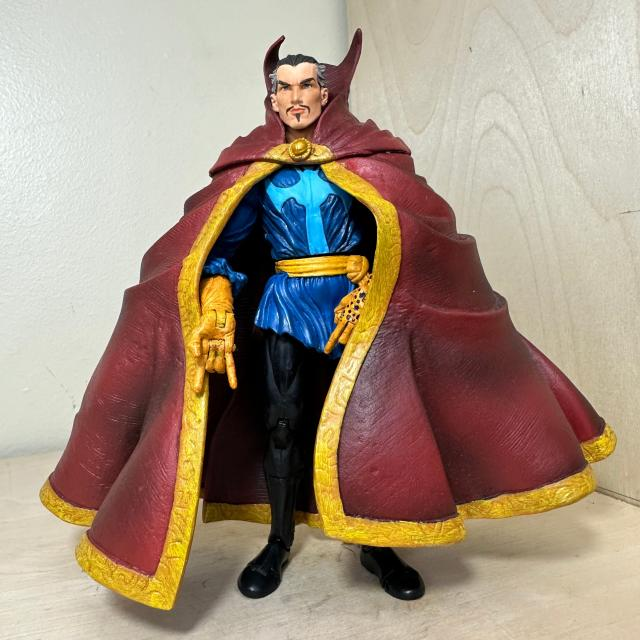doctor_strange: (111, 25, 552, 626)
